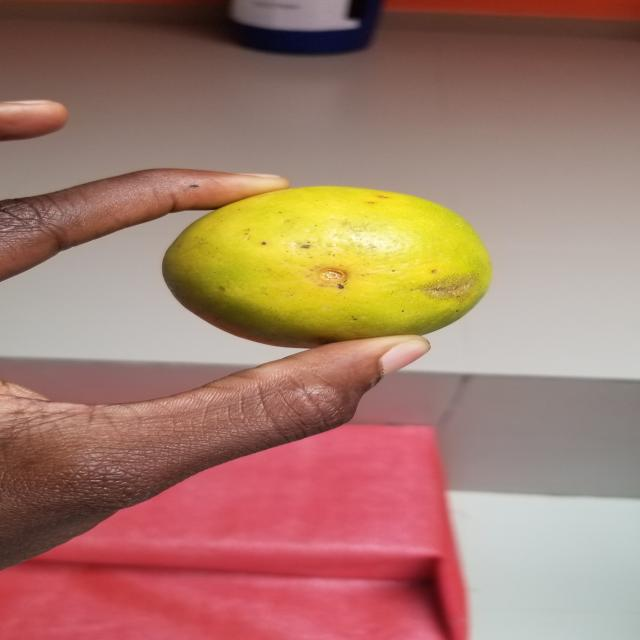Ripe orange: (144, 181, 506, 349)
